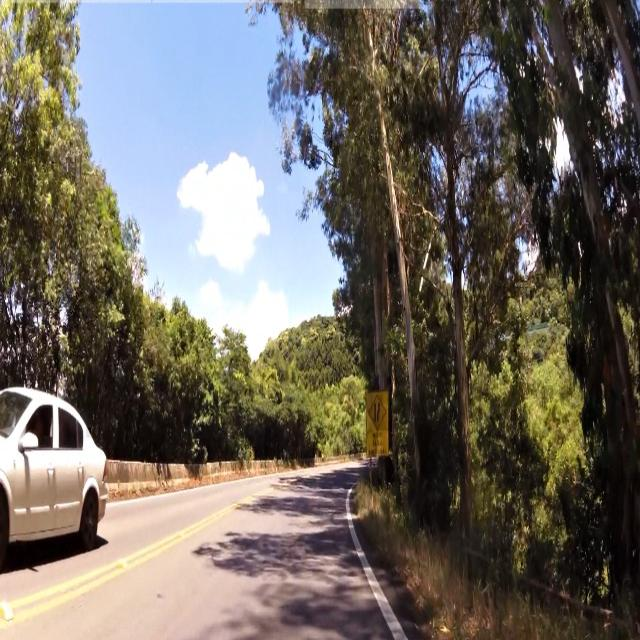A-21e: (369, 396, 388, 432)
